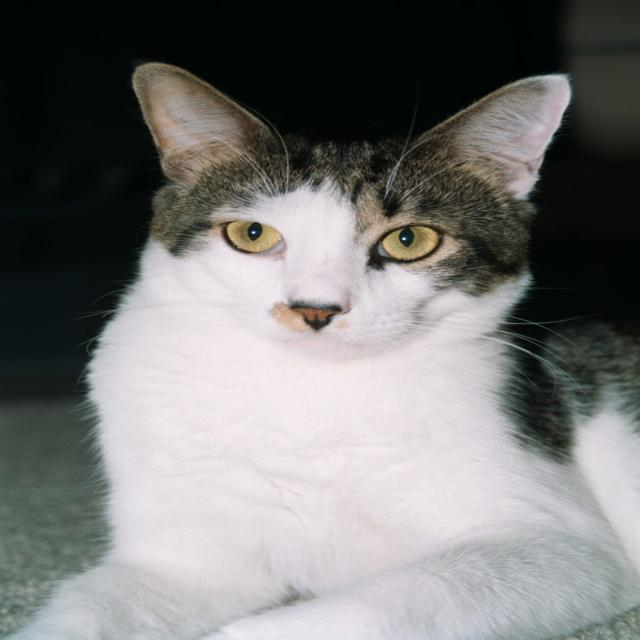Cat: (0, 57, 639, 639)
